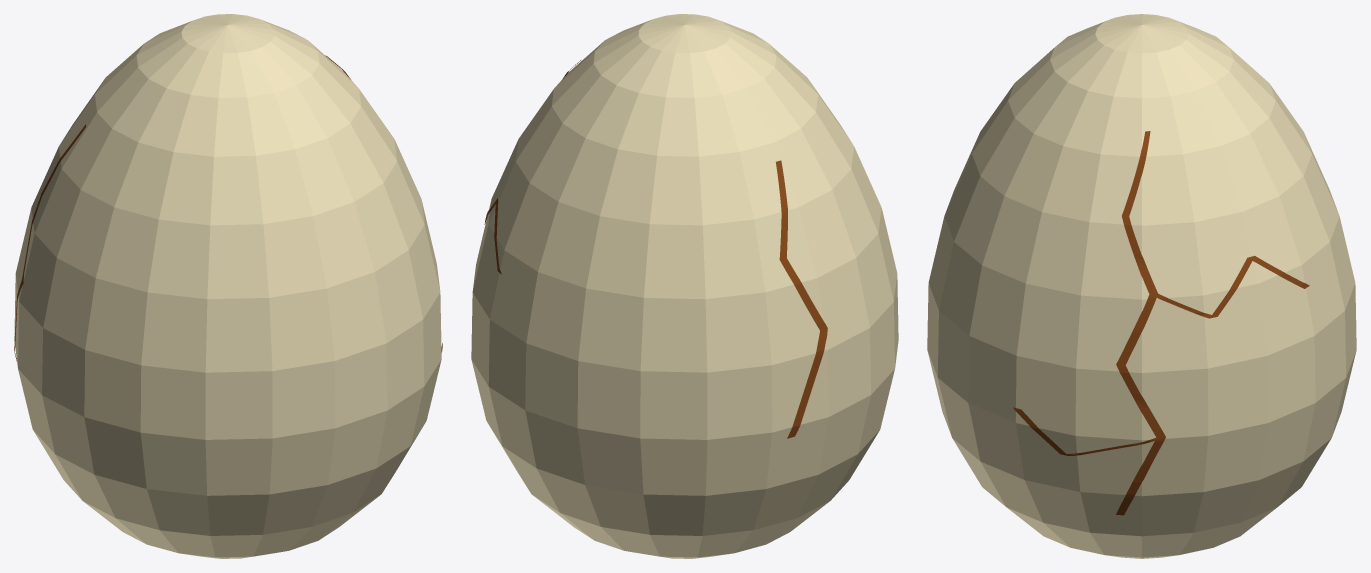
File: SM_Egg_Cracked_A.fbx
3 renders of one model, left to right at view 1: azimuth 30°, elevation 25°; view 2: azimuth 150°, elevation 25°; view 3: azimuth 270°, elevation 25°, orthographic.
Visible parts, largest first — view 1: SM_Egg_Cracked_A; view 2: SM_Egg_Cracked_A; view 3: SM_Egg_Cracked_A.
Boxes of the visible parts, box(x1,y1,x2,y2) form: SM_Egg_Cracked_A: box(14, 14, 442, 558); SM_Egg_Cracked_A: box(471, 14, 898, 558); SM_Egg_Cracked_A: box(927, 14, 1356, 558).
Size of the model in its own units: 30.18 by 30.23 by 40.
